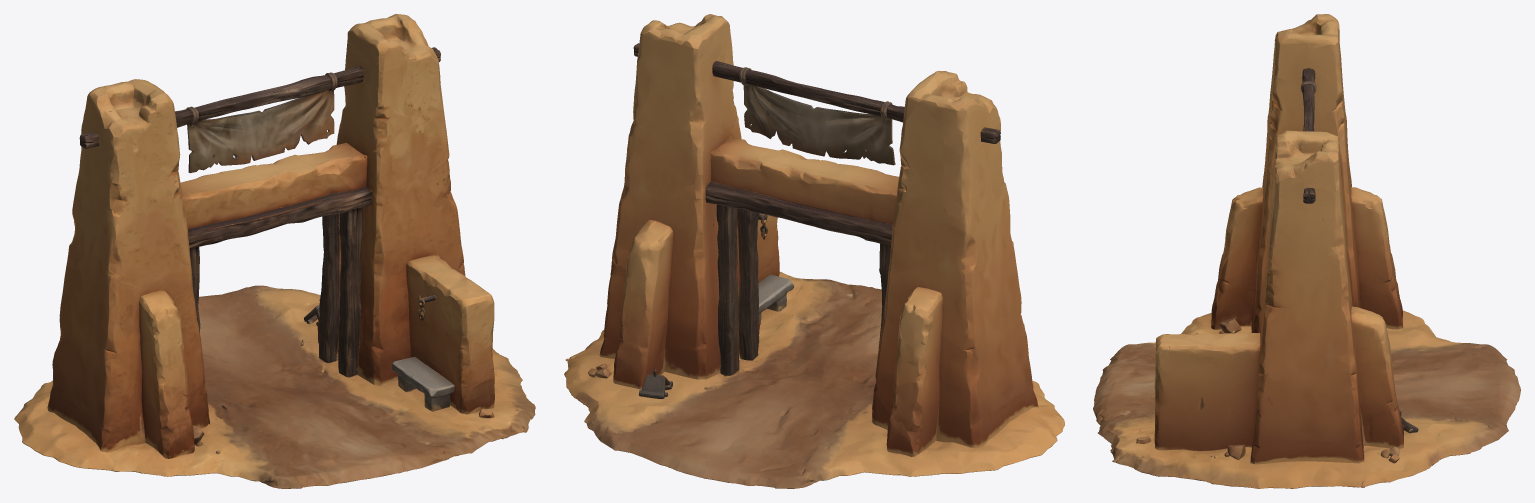
Rendered from gate-hero.glb.
3 views of the same model, side by side, from view 1: azimuth 30°, elevation 25°; view 2: azimuth 150°, elevation 25°; view 3: azimuth 270°, elevation 25° (orthographic). The views are drawn at different scales.
Visible parts, largest first — view 1: mesh_node; view 2: mesh_node; view 3: mesh_node.
Part boxes in pixels (x1,y1,x2,y2): mesh_node: (14, 14, 535, 488); mesh_node: (564, 14, 1064, 488); mesh_node: (1093, 14, 1520, 488).
Bounding box in the file's own units: 1.9 × 1.35 × 1.7.
Materials: 1 (1 with a texture image).
